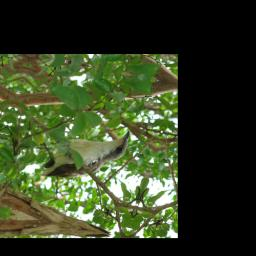Cuckoo: (37, 117, 133, 192)
